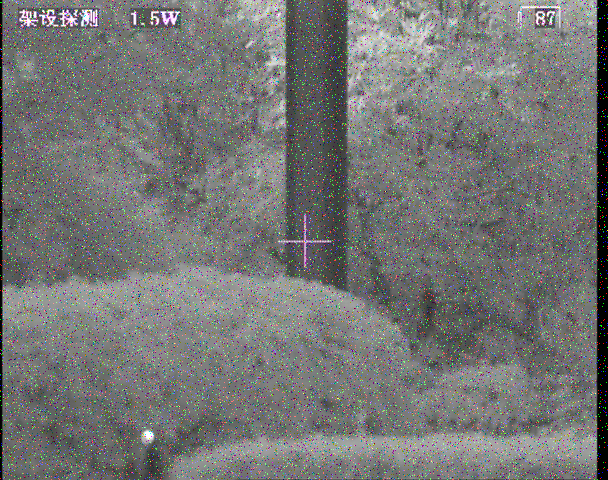my: (141, 430, 155, 445)
